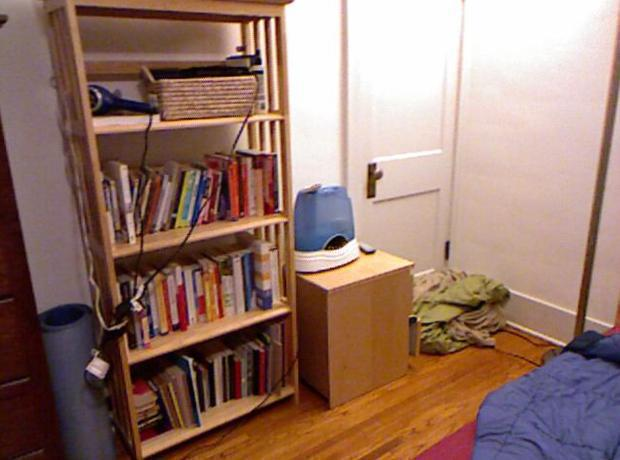Otro Obstaculo: (395, 254, 511, 362)
